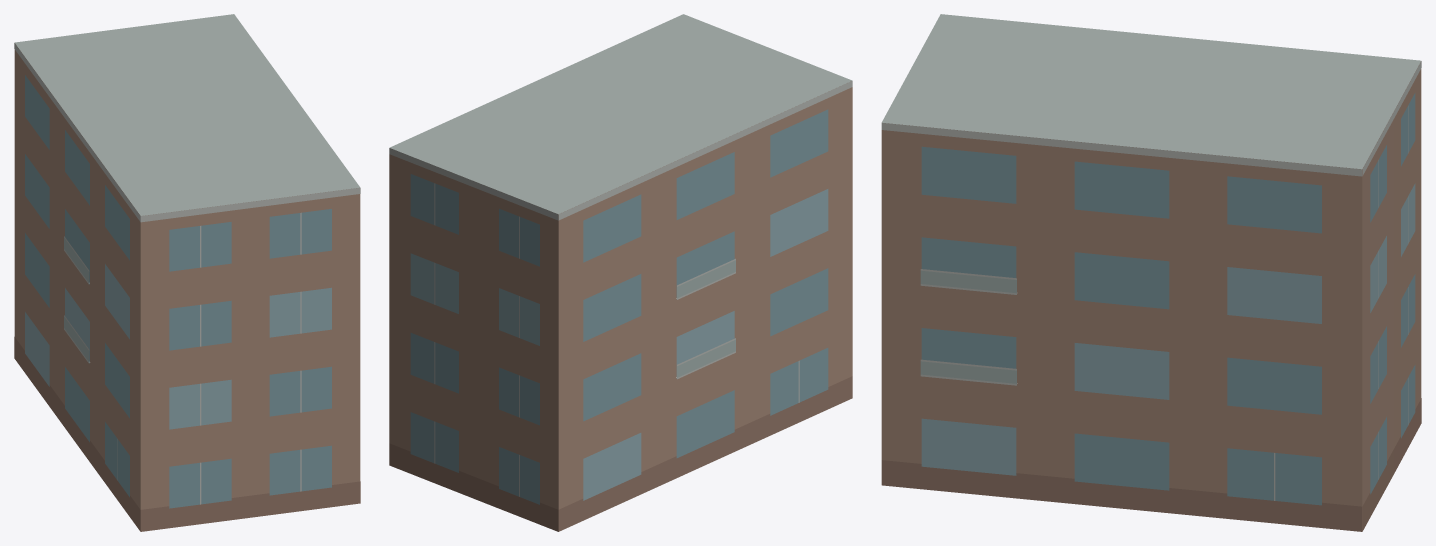
File: residential-d1309835-663e-47df-8594-57830300af28.glb
3 views of the same model, side by side, from view 1: azimuth 30°, elevation 25°; view 2: azimuth 150°, elevation 25°; view 3: azimuth 270°, elevation 25° (orthographic). The views are drawn at different scales.
Visible parts, largest first — view 1: residential-d1309835-663e-47df-8594-57830300af28.tmp; view 2: residential-d1309835-663e-47df-8594-57830300af28.tmp; view 3: residential-d1309835-663e-47df-8594-57830300af28.tmp.
Part boxes in pixels (bbox=[...]): residential-d1309835-663e-47df-8594-57830300af28.tmp: bbox=[14, 14, 360, 531]; residential-d1309835-663e-47df-8594-57830300af28.tmp: bbox=[389, 14, 852, 531]; residential-d1309835-663e-47df-8594-57830300af28.tmp: bbox=[881, 14, 1421, 531].
Size of the model in its own units: 11.21 by 12.2 by 16.48.
